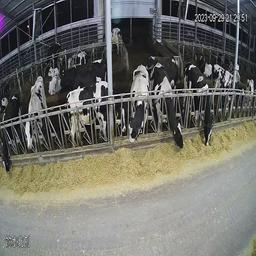cow: (65, 82, 122, 149), (151, 61, 189, 156), (182, 61, 215, 148), (23, 71, 49, 156), (210, 59, 244, 120), (128, 65, 151, 149), (60, 58, 108, 93), (1, 90, 21, 173), (132, 53, 181, 84), (108, 25, 123, 56), (48, 65, 62, 98), (67, 51, 90, 71), (245, 75, 255, 113), (45, 43, 63, 64)
